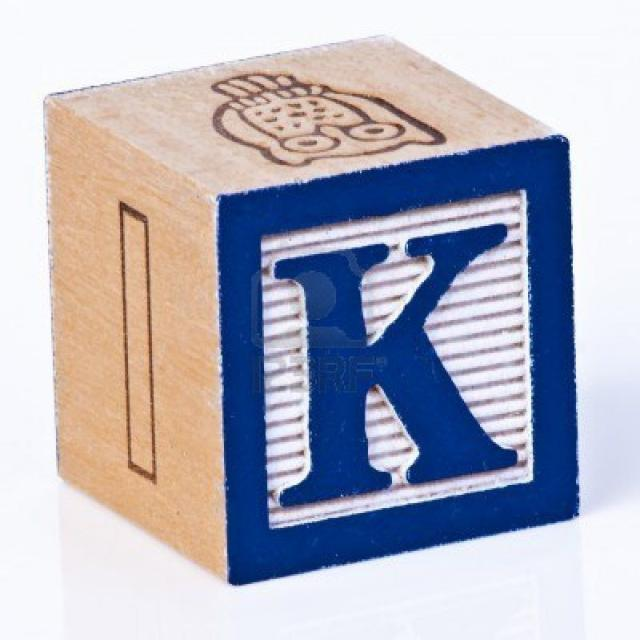K: (263, 207, 524, 516)
